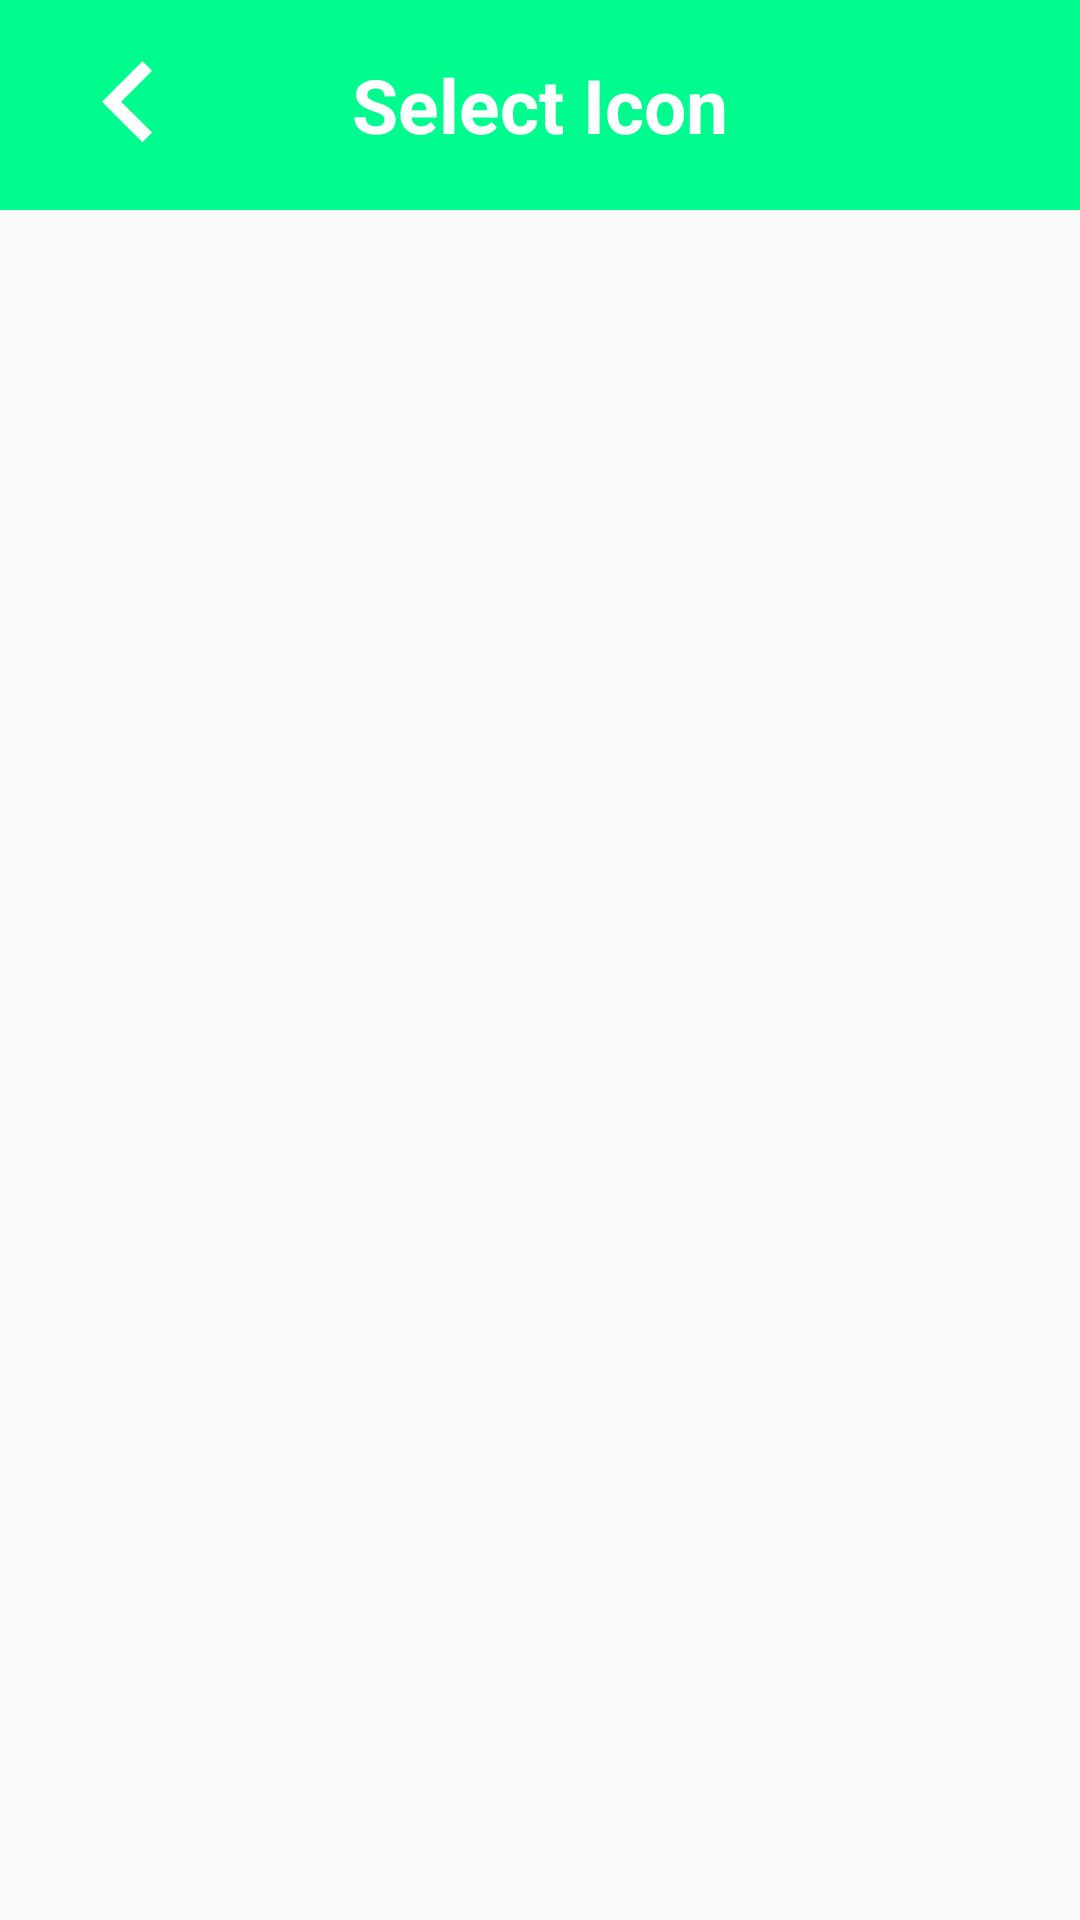

Named icons in this screenshot (1080 x 1920) and their centers, [x,y]:
keyboard arrow: [127,101]
